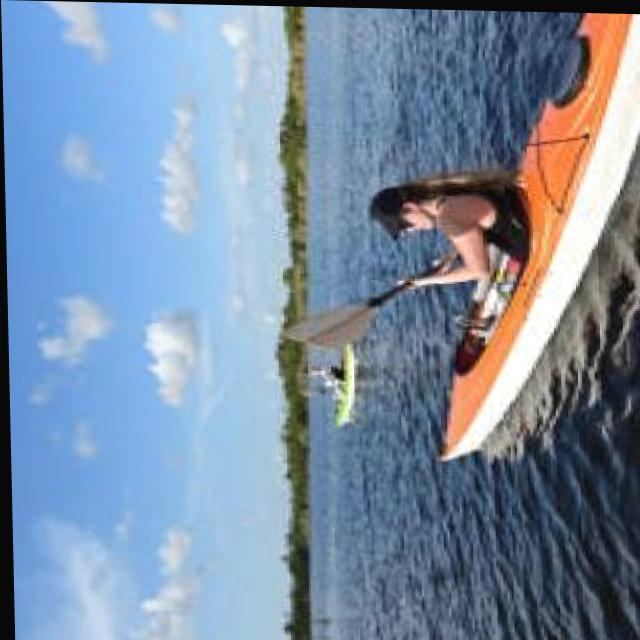kayak: (435, 10, 640, 459)
